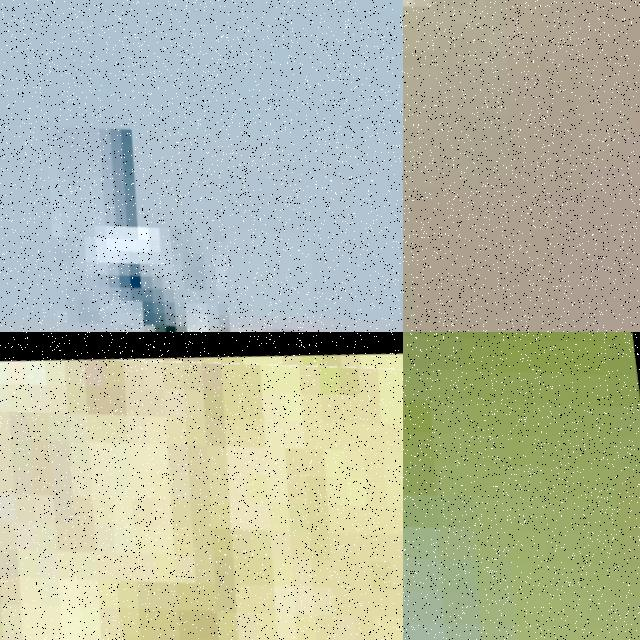0: (0, 0, 403, 332)
drone: (0, 332, 403, 640), (403, 0, 640, 332), (403, 332, 640, 640)
